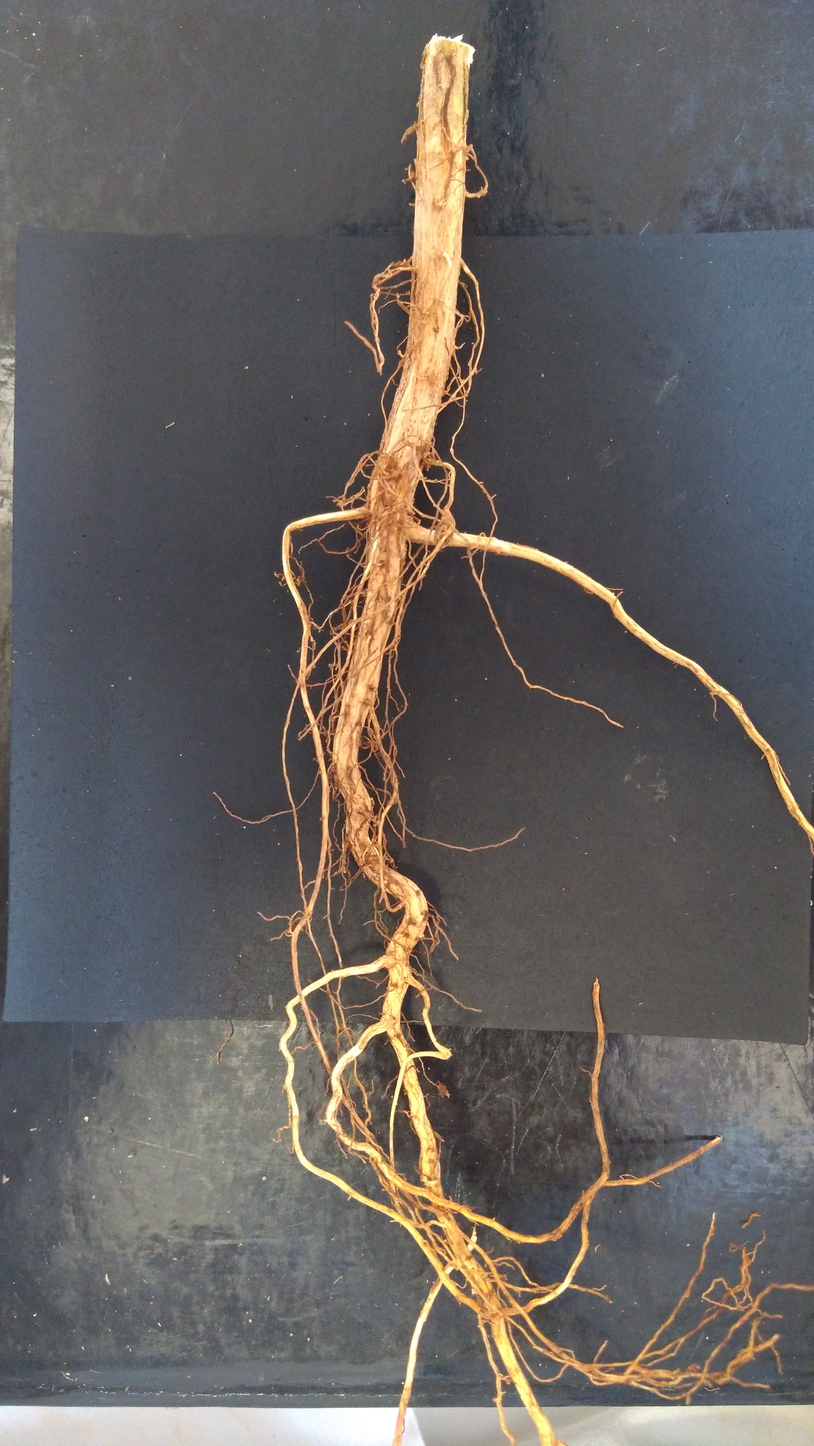nodule: (433, 510, 455, 549), (380, 480, 396, 507), (375, 455, 396, 473), (422, 452, 434, 470), (434, 194, 446, 208), (437, 1083, 449, 1097), (500, 1374, 512, 1384), (687, 1363, 700, 1371), (336, 498, 346, 507), (370, 797, 375, 807), (471, 1287, 477, 1295), (403, 1088, 408, 1096), (398, 349, 401, 356), (390, 858, 394, 863), (426, 1092, 429, 1096)
